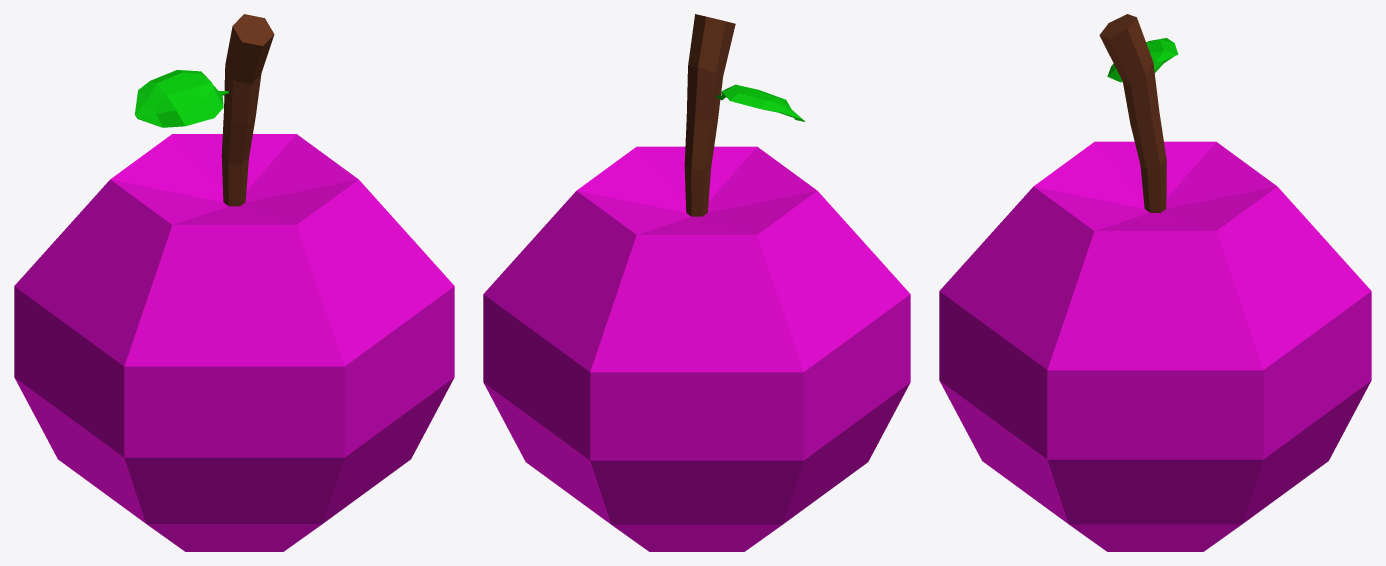
Rendered from low_poly_apple3.glb.
3 renders of one model, left to right at view 1: azimuth 30°, elevation 25°; view 2: azimuth 150°, elevation 25°; view 3: azimuth 270°, elevation 25°, orthographic. The views are drawn at different scales.
Visible parts, largest first — view 1: Esfera; view 2: Esfera; view 3: Esfera.
Boxes of the visible parts, x1,y1,x2,y2 form: Esfera: (14,14,454,551); Esfera: (483,14,910,551); Esfera: (939,14,1371,551).
Size of the model in its own units: 1.69 by 2.49 by 1.95.
